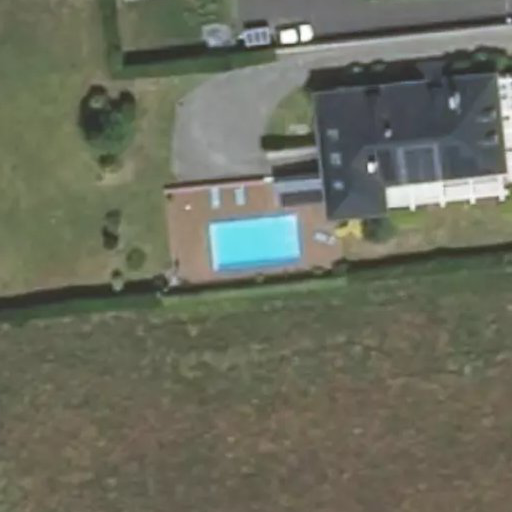pool: (202, 224, 311, 258)
